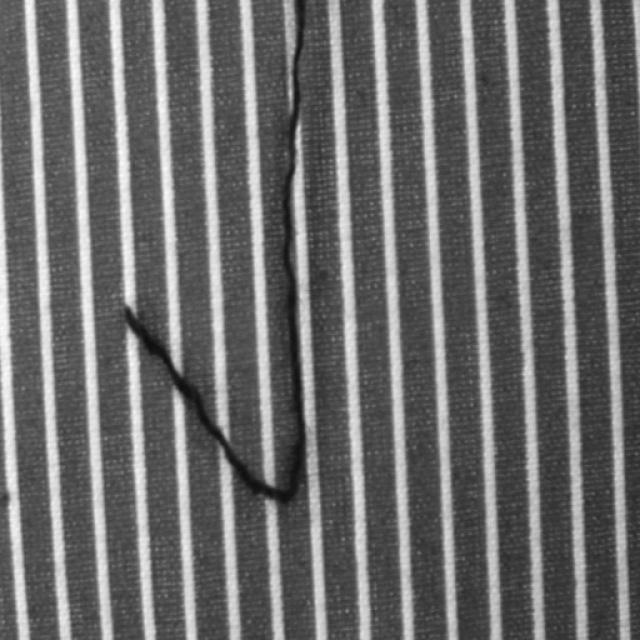Foreign-Body-Defect: (125, 0, 305, 504)
